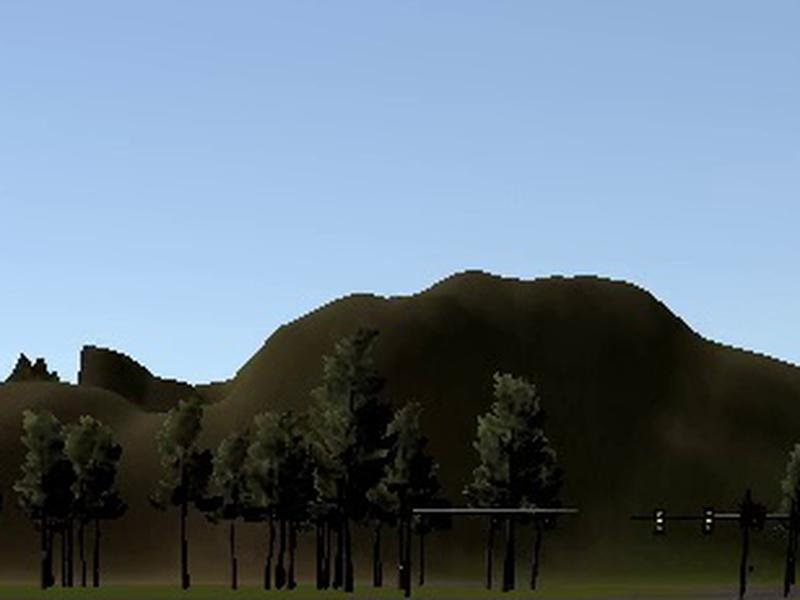Yellow: (704, 506, 715, 534), (654, 508, 665, 534)
